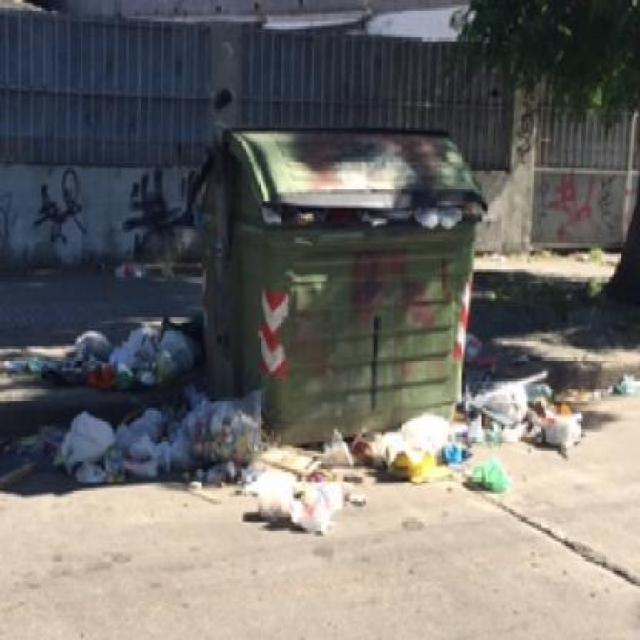garbage: (5, 417, 269, 478), (356, 406, 512, 488), (0, 331, 212, 384), (272, 422, 344, 518), (500, 368, 574, 448), (286, 205, 476, 221), (606, 368, 638, 392)
